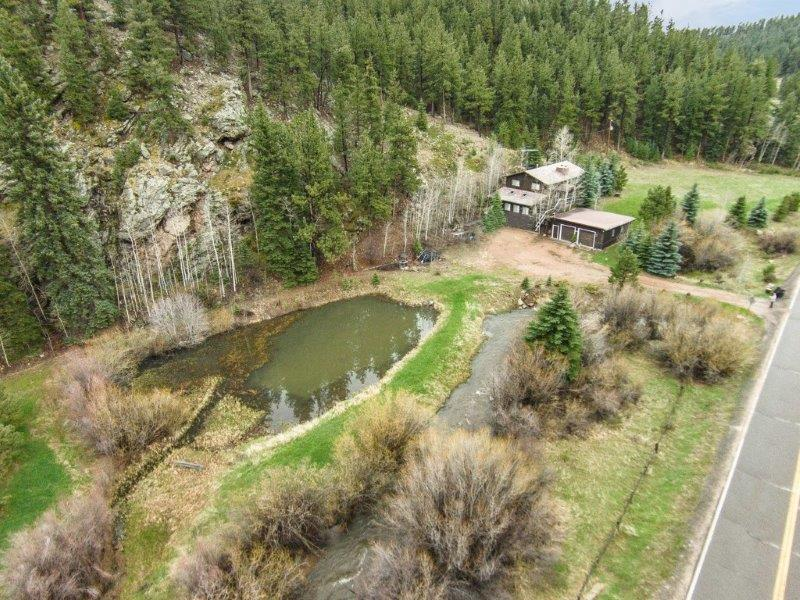building: (499, 150, 640, 262)
sky: (637, 1, 800, 30)
tree: (1, 34, 125, 344), (224, 90, 330, 287), (519, 272, 589, 389), (665, 64, 687, 162), (645, 224, 682, 279), (682, 177, 701, 227), (726, 190, 747, 235), (750, 189, 771, 233)
water: (106, 282, 454, 452), (452, 304, 539, 431), (307, 520, 382, 600)
